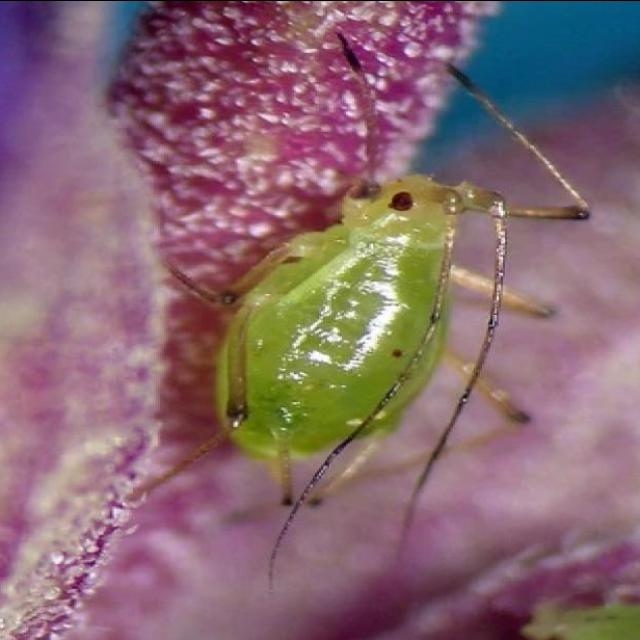Aphids: (124, 21, 616, 587)
